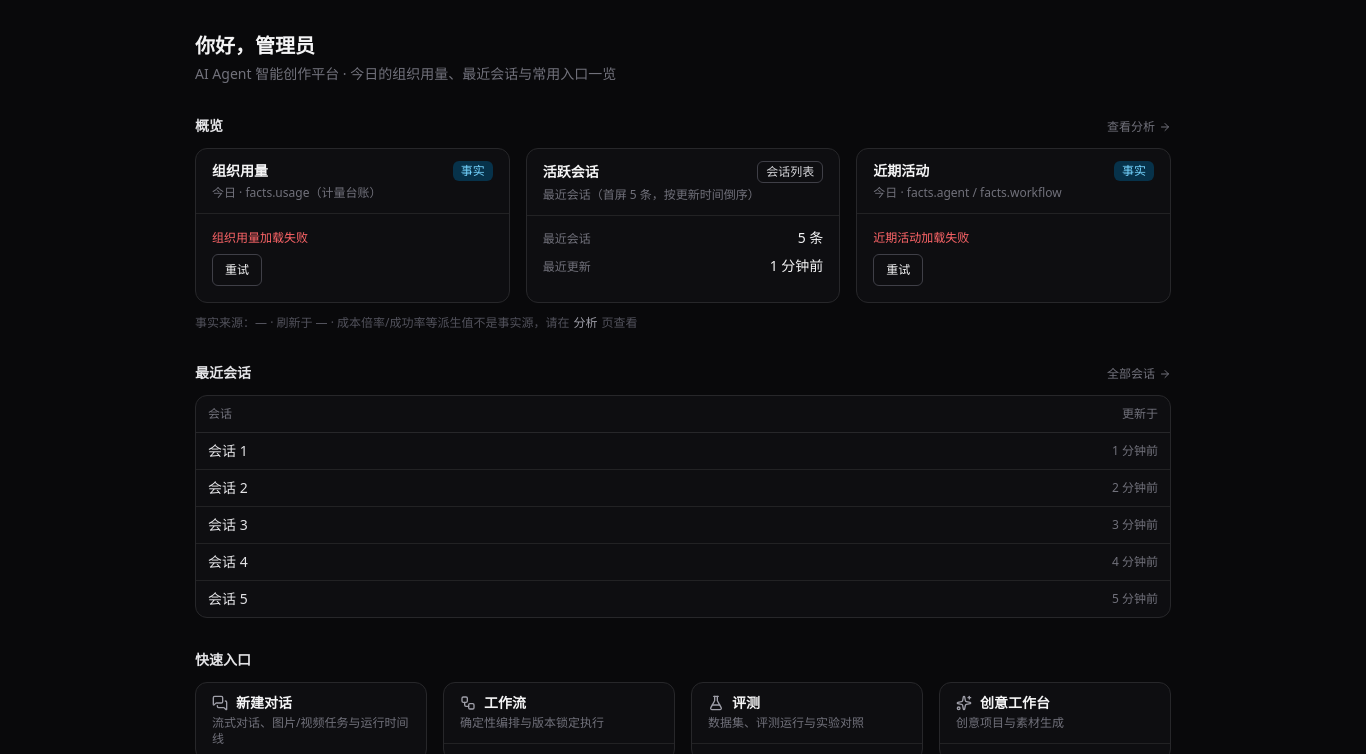
Test: Dashboard 概览卡片（facts 区 + 「事实」徽标） › 概览失败（非权限错误）→ 错误态 + 重试；重试成功后渲染事实值
Expected: the text "组织用量加载失败" is shown, [212,229,308,246]
Click the button "重试" below "组织用量加载失败": (237, 270) [212,254,262,286]
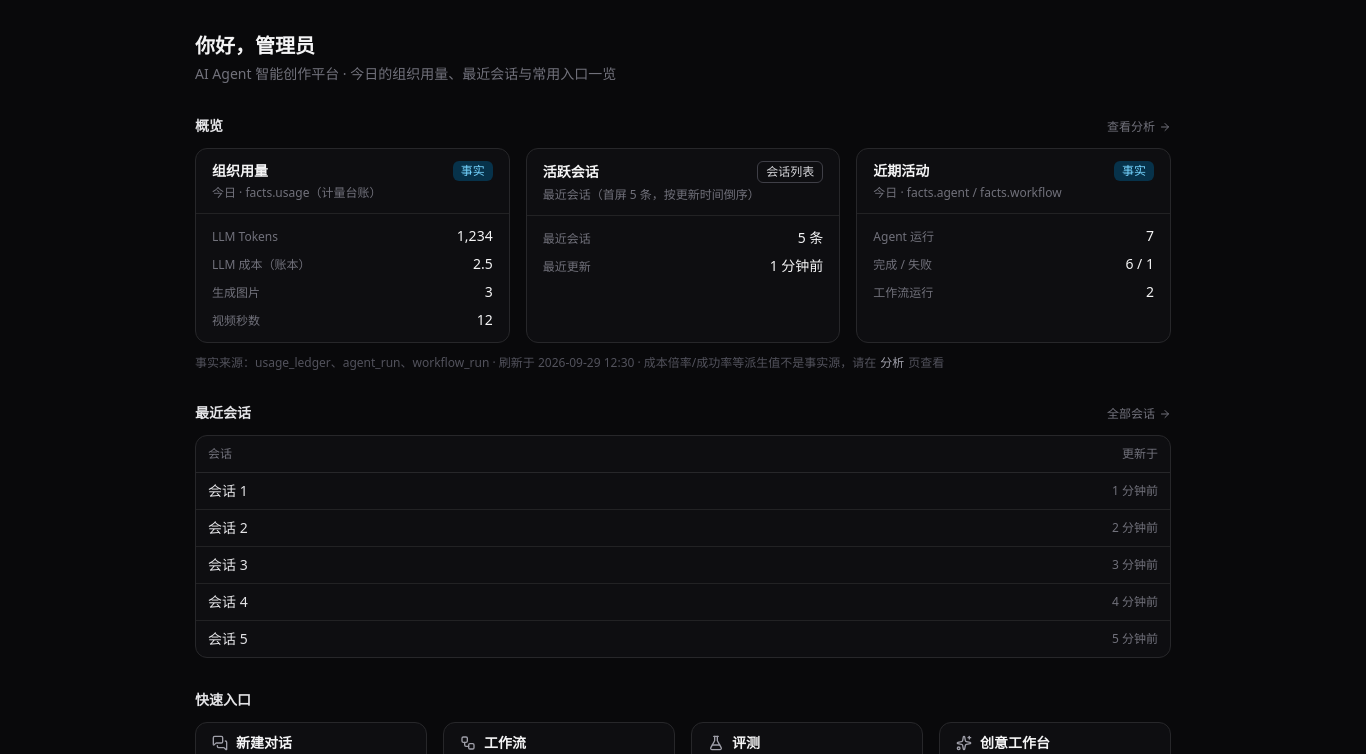
Now the text "LLM Tokens" is shown, box [212,229,278,245]
Now the text "1,234" is shown, box [457,226,493,246]
